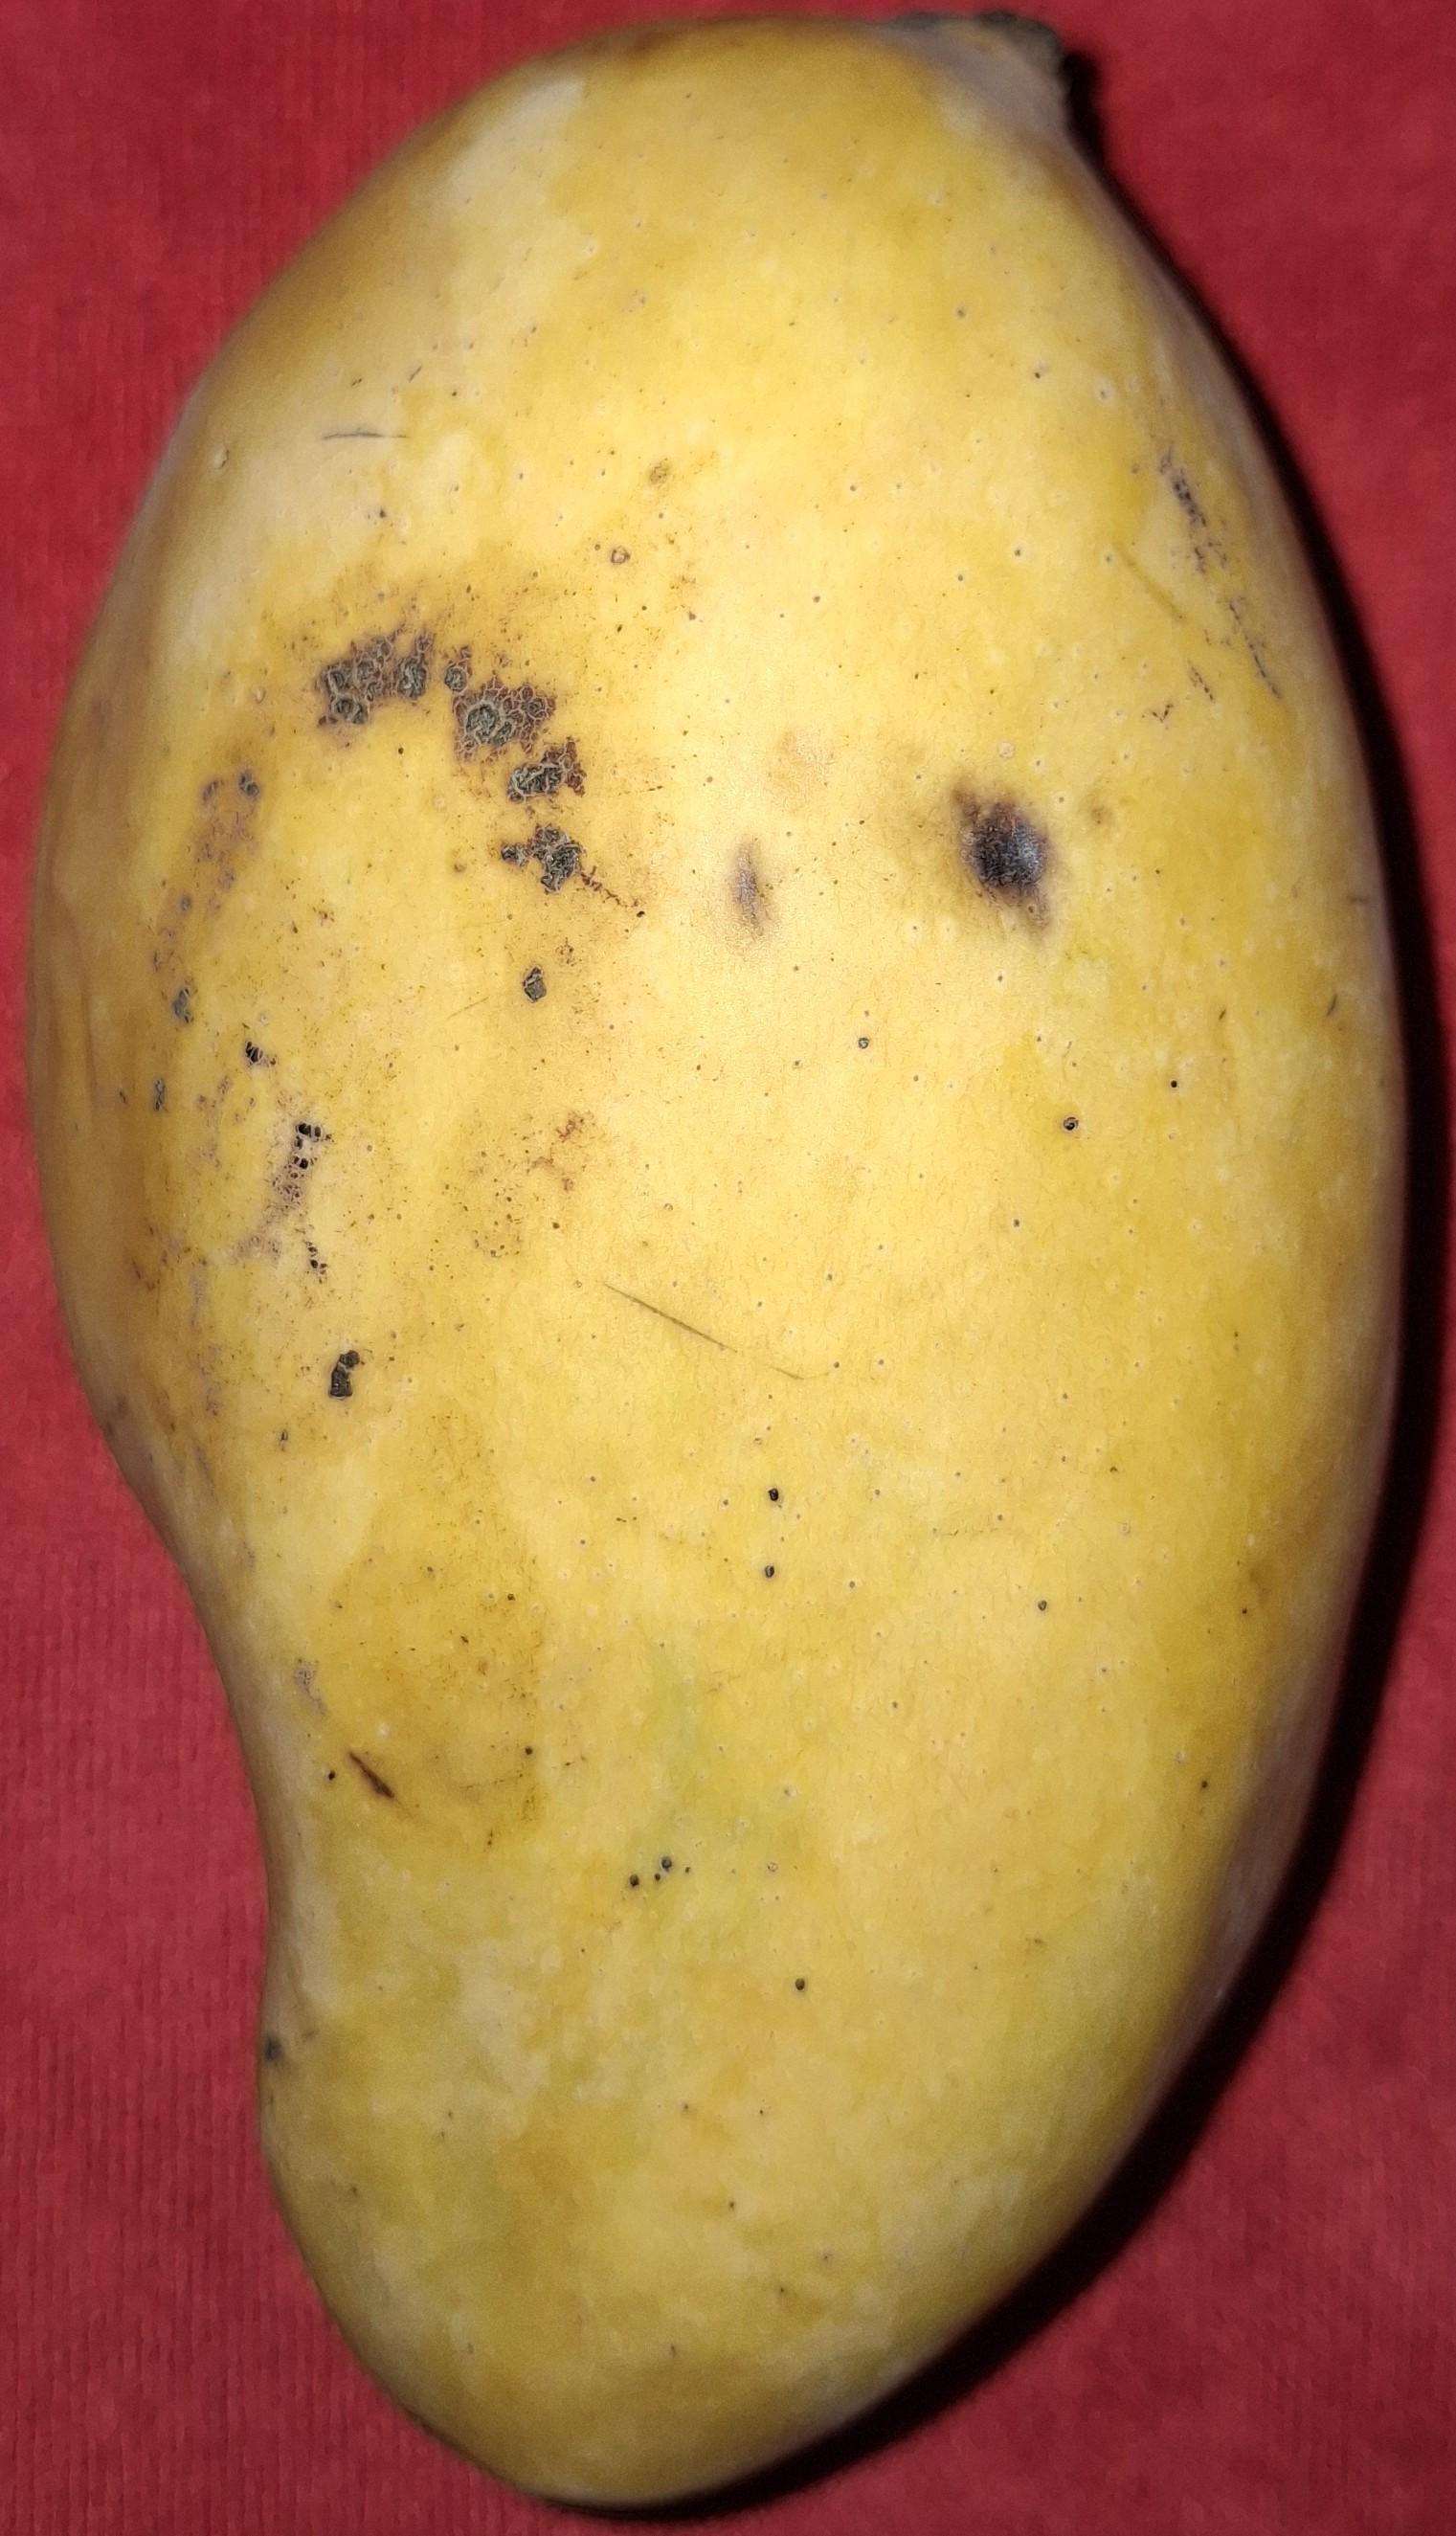mango: (24, 7, 1414, 2513)
